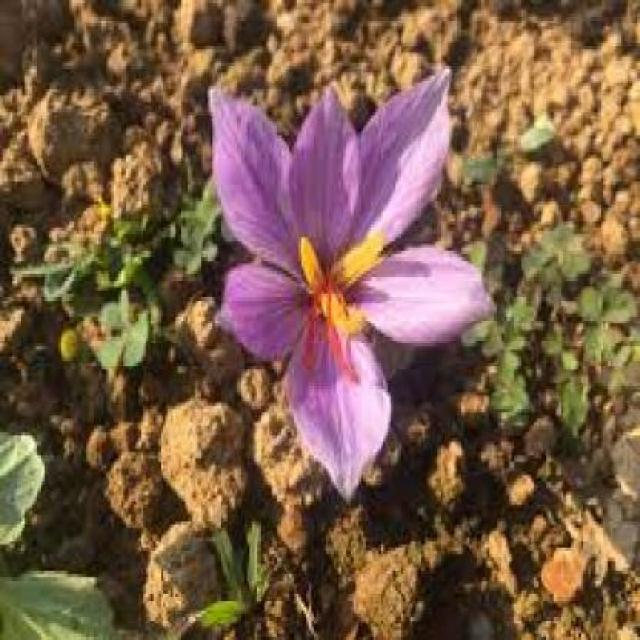saffron open: (212, 79, 489, 469)
